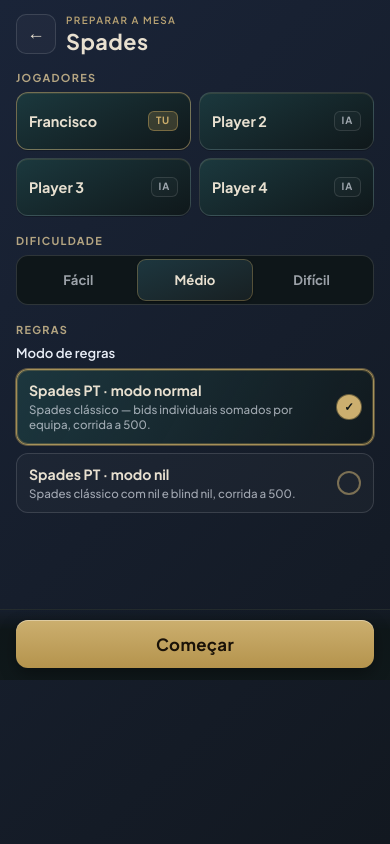
Test: GameSetupScreen production redesign › keeps TU badge visible while editing P1
Click the button with class "setup-seat-btn" showing "Francisco TU" at (104, 121), box [17,93,190,149]
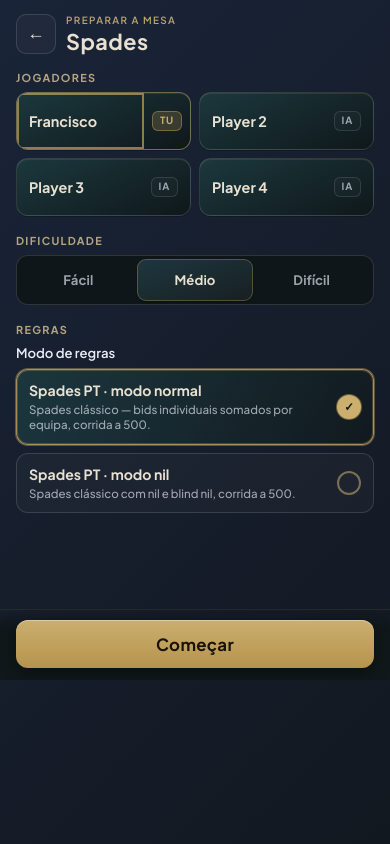
Expected: the text with class "setup-badge--you" reads "TU", [160,114,174,126]
Now the field with class "setup-seat-input" is shown, box [17,93,144,149]
